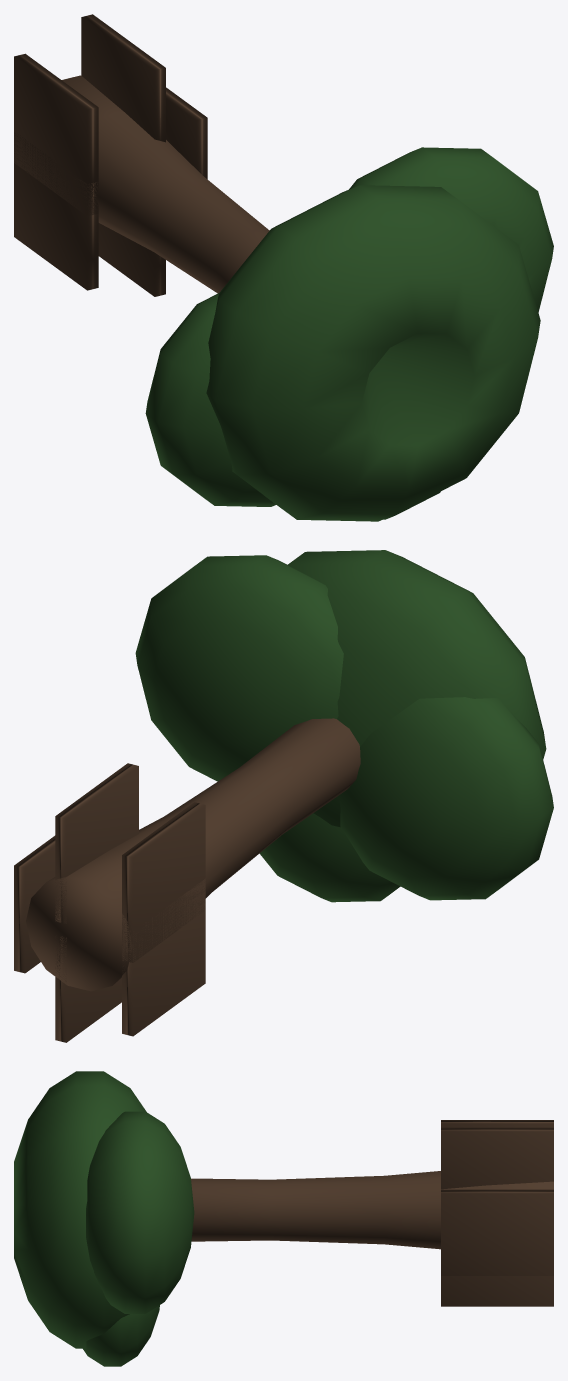
The model's file is FOREST_TREE_BUTTRESS_L.obj.
The picture shows the model from 3 angles, top to bottom: view 1: azimuth 30°, elevation 25°; view 2: azimuth 150°, elevation 25°; view 3: azimuth 270°, elevation 25°; orthographic projection. The views are drawn at different scales.
Visible parts, largest first — view 1: canopy, tree, buttress_2, buttress_3, buttress_1, buttress_4, buttress_0; view 2: canopy, tree, buttress_2, buttress_3, buttress_1, buttress_0, buttress_4; view 3: canopy, tree, buttress_0, buttress_1, buttress_4, buttress_2.
Boxes of the visible parts, x1,y1,x2,y2 form: canopy: [145, 147, 553, 521]; tree: [62, 75, 269, 293]; buttress_2: [14, 53, 98, 215]; buttress_3: [14, 132, 98, 290]; buttress_1: [81, 14, 165, 142]; buttress_4: [98, 223, 165, 296]; buttress_0: [166, 87, 207, 178]; canopy: [135, 550, 553, 902]; tree: [26, 718, 360, 991]; buttress_2: [122, 802, 205, 962]; buttress_3: [122, 878, 205, 1036]; buttress_1: [55, 763, 138, 923]; buttress_0: [14, 835, 55, 973]; buttress_4: [55, 935, 121, 1042]; canopy: [14, 1071, 194, 1366]; tree: [191, 1171, 553, 1249]; buttress_0: [441, 1189, 553, 1275]; buttress_1: [441, 1127, 553, 1189]; buttress_4: [441, 1276, 553, 1306]; buttress_2: [441, 1120, 553, 1127].
Size of the model in its own units: 6.34 by 5.13 by 9.54.
